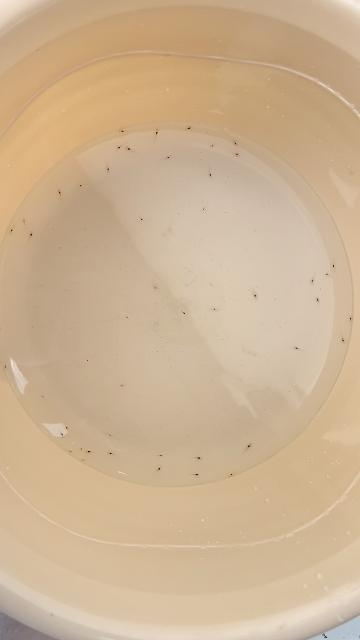benur: (207, 171, 214, 179), (331, 263, 337, 271), (8, 228, 14, 235), (314, 296, 321, 302), (291, 345, 298, 351), (182, 312, 189, 318), (253, 294, 259, 301), (57, 188, 63, 194), (309, 279, 315, 285), (247, 442, 253, 448), (60, 433, 66, 439), (211, 307, 217, 313), (29, 230, 34, 237), (124, 146, 131, 151), (155, 128, 160, 135), (167, 153, 172, 160), (118, 129, 124, 134), (232, 140, 237, 146), (323, 272, 329, 277), (227, 473, 233, 478), (197, 456, 203, 461), (155, 468, 161, 473), (106, 450, 111, 456), (39, 393, 45, 398), (123, 314, 129, 319), (349, 313, 353, 320), (140, 218, 145, 223), (115, 146, 120, 151), (209, 144, 214, 149), (341, 339, 346, 344), (85, 449, 90, 454), (119, 383, 124, 388), (107, 168, 111, 174), (187, 126, 193, 130), (235, 153, 241, 157), (195, 473, 201, 477), (4, 365, 8, 371), (201, 208, 206, 212), (79, 458, 84, 462), (69, 450, 74, 454), (66, 427, 71, 431), (22, 219, 26, 223), (160, 454, 164, 458), (109, 434, 113, 438), (154, 286, 158, 290), (77, 185, 82, 188), (79, 448, 82, 451), (86, 359, 89, 361)
